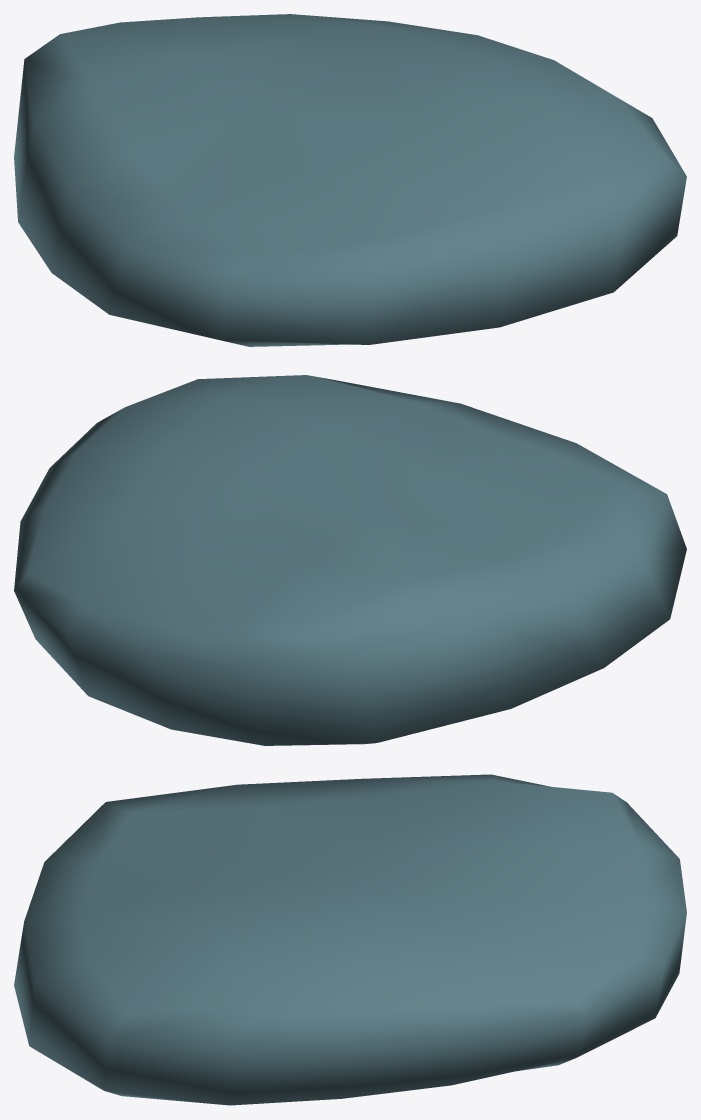
Rendered from Rock_B_05_LOD2.gltf.
3 renders of one model, top to bottom at view 1: azimuth 30°, elevation 25°; view 2: azimuth 150°, elevation 25°; view 3: azimuth 270°, elevation 25°, orthographic. The views are drawn at different scales.
Visible parts, largest first — view 1: Rock_B_05_LOD2_Cube.758; view 2: Rock_B_05_LOD2_Cube.758; view 3: Rock_B_05_LOD2_Cube.758.
Boxes of the visible parts, x1=… form: Rock_B_05_LOD2_Cube.758: x1=14, y1=14, x2=686, y2=346; Rock_B_05_LOD2_Cube.758: x1=14, y1=375, x2=686, y2=745; Rock_B_05_LOD2_Cube.758: x1=14, y1=774, x2=686, y2=1105.
Bounding box in the file's own units: 4.78 × 1.17 × 4.95.
Materials: 1 (1 with a texture image).
